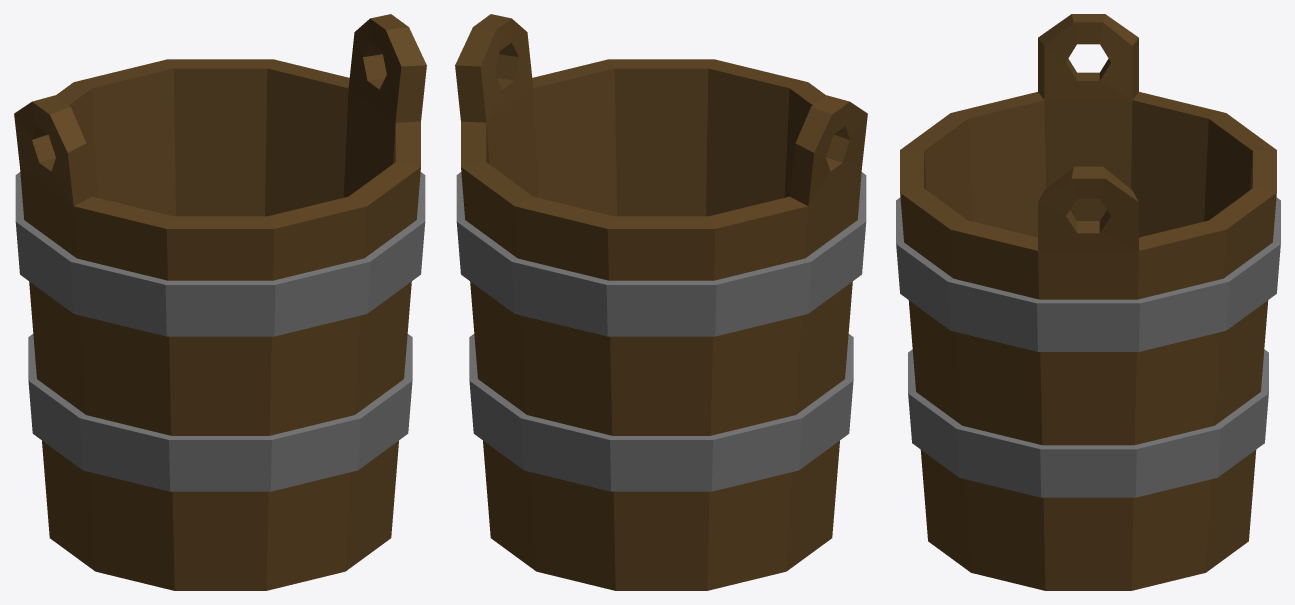
Rendered from Bucket.fbx.
The picture shows the model from 3 angles, left to right: view 1: azimuth 30°, elevation 25°; view 2: azimuth 150°, elevation 25°; view 3: azimuth 270°, elevation 25°; orthographic projection. The views are drawn at different scales.
Visible parts, largest first — view 1: Emmer; view 2: Emmer; view 3: Emmer.
Boxes of the visible parts, box(x1,y1,x2,y2) form: Emmer: box(14, 14, 426, 590); Emmer: box(455, 14, 867, 590); Emmer: box(896, 14, 1280, 590).
Bounding box in the file's own units: 0.2883 × 0.35 × 0.2848.
